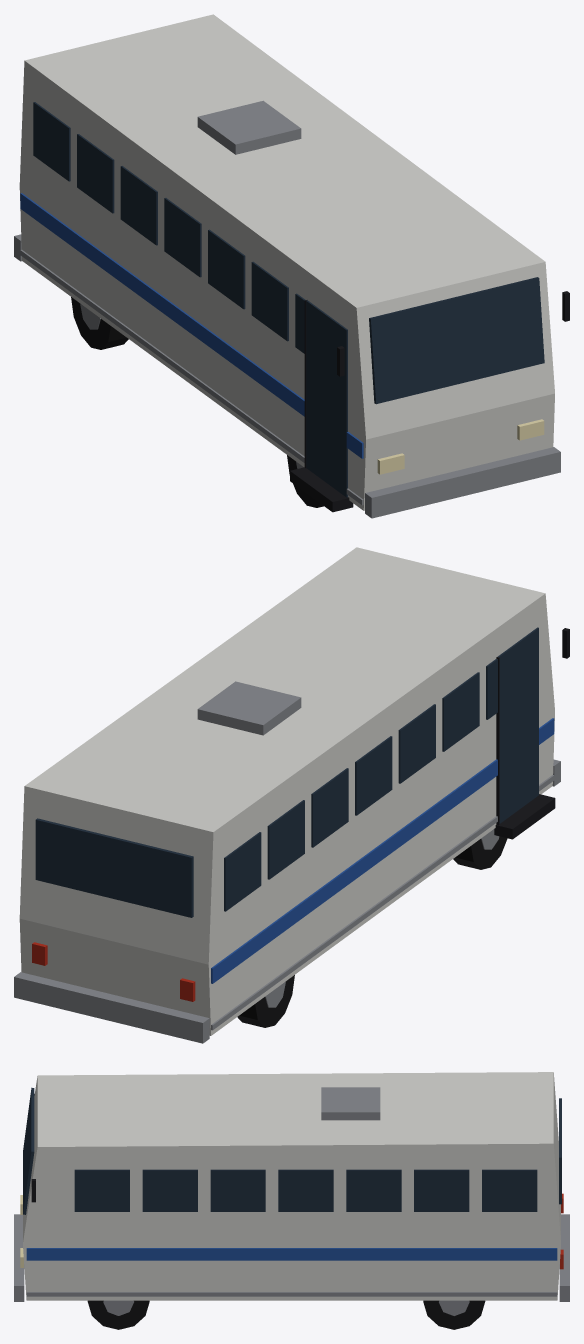
File: veh_labour-bus.b6193a815243.glb
3 views of the same model, one above another, from view 1: azimuth 30°, elevation 25°; view 2: azimuth 150°, elevation 25°; view 3: azimuth 270°, elevation 25° (orthographic). The views are drawn at different scales.
Parts seen in each view (by area): view 1: body, wheels; view 2: body, wheels; view 3: body, wheels.
Part boxes in pixels (bbox=[...]): body: bbox=[14, 14, 569, 518]; wheels: bbox=[71, 297, 323, 507]; body: bbox=[14, 547, 569, 1043]; wheels: bbox=[237, 829, 507, 1027]; body: bbox=[14, 1072, 569, 1301]; wheels: bbox=[87, 1300, 485, 1329].
Bounding box in the file's own units: 2.8 × 2.92 × 7.54.
